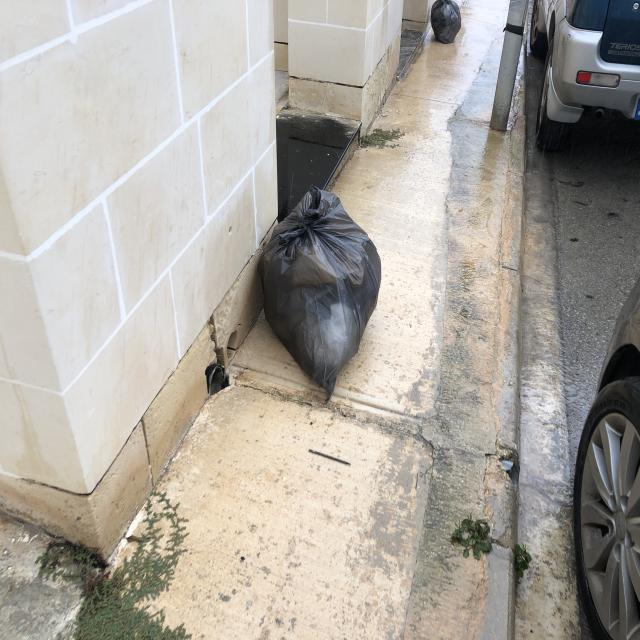Mixed Waste -Black Bag-: (258, 184, 384, 406), (430, 1, 463, 46)
